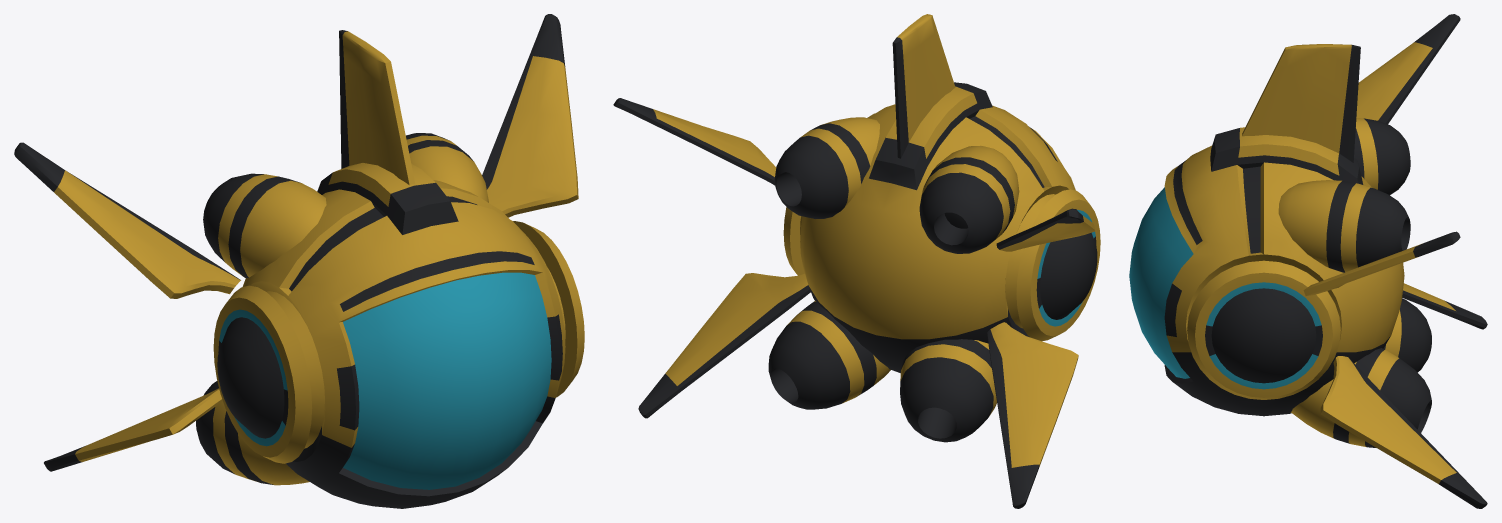
Rendered from ship-d.glb.
3 views of the same model, side by side, from view 1: azimuth 30°, elevation 25°; view 2: azimuth 150°, elevation 25°; view 3: azimuth 270°, elevation 25° (orthographic). The views are drawn at different scales.
Parts seen in each view (by area): view 1: Spaceship_BarbaraTheBee; view 2: Spaceship_BarbaraTheBee; view 3: Spaceship_BarbaraTheBee.
Boxes of the visible parts, <box> form: Spaceship_BarbaraTheBee: <box>14,14,584,508</box>; Spaceship_BarbaraTheBee: <box>613,14,1100,508</box>; Spaceship_BarbaraTheBee: <box>1129,14,1487,508</box>.
Size of the model in its own units: 7.34 by 5.7 by 4.96.
Materials: 1 (1 with a texture image).
